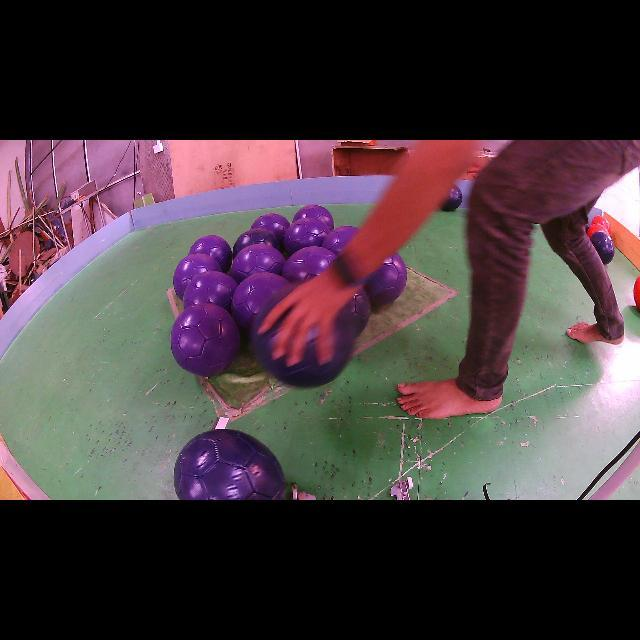B: (250, 285, 358, 388), (174, 429, 286, 500), (232, 229, 279, 259), (590, 231, 615, 265), (441, 185, 462, 211)
P: (171, 302, 240, 377), (231, 272, 290, 329), (365, 252, 408, 306), (182, 271, 238, 311), (172, 254, 221, 299), (230, 244, 285, 284), (282, 246, 336, 284), (284, 218, 330, 255), (189, 235, 232, 272), (251, 212, 290, 246), (322, 226, 359, 256), (292, 205, 334, 231), (348, 289, 371, 336)
R: (591, 215, 611, 235), (586, 224, 610, 238), (634, 276, 640, 310)
